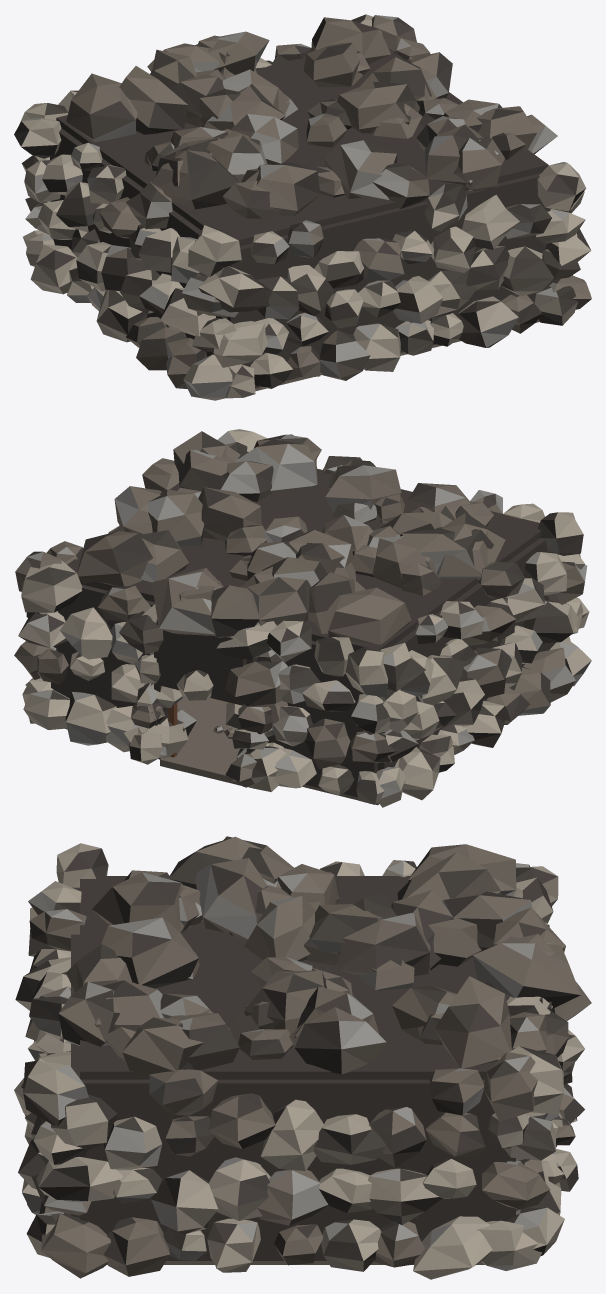
The model's file is Cave_Mines_Cavern.fbx.
The picture shows the model from 3 angles, top to bottom: view 1: azimuth 30°, elevation 25°; view 2: azimuth 150°, elevation 25°; view 3: azimuth 270°, elevation 25°; orthographic projection. The views are drawn at different scales.
Parts seen in each view (by area): view 1: Decor, Ceiling2, Wall3, Wall6; view 2: Decor, Ceiling2, Wall8, Wall1, Wall2, Floor2, Wall6, Floor1; view 3: Decor, Wall4, Ceiling2, Wall3.
Part boxes in pixels (x1,y1,x2,y2): Decor: (14,14,591,400); Ceiling2: (56,47,548,246); Wall3: (227,173,551,388); Wall6: (50,128,227,356); Decor: (14,429,591,807); Ceiling2: (67,451,541,650); Wall8: (156,619,246,705); Wall1: (267,640,377,797); Wall2: (53,584,154,707); Floor2: (65,698,379,805); Wall6: (378,538,552,770); Floor1: (160,750,239,785); Decor: (14,836,591,1279); Wall4: (80,1079,506,1260); Ceiling2: (80,876,506,1079); Wall3: (71,887,79,1217).
Size of the model in its own units: 66.98 by 31.12 by 64.95.
